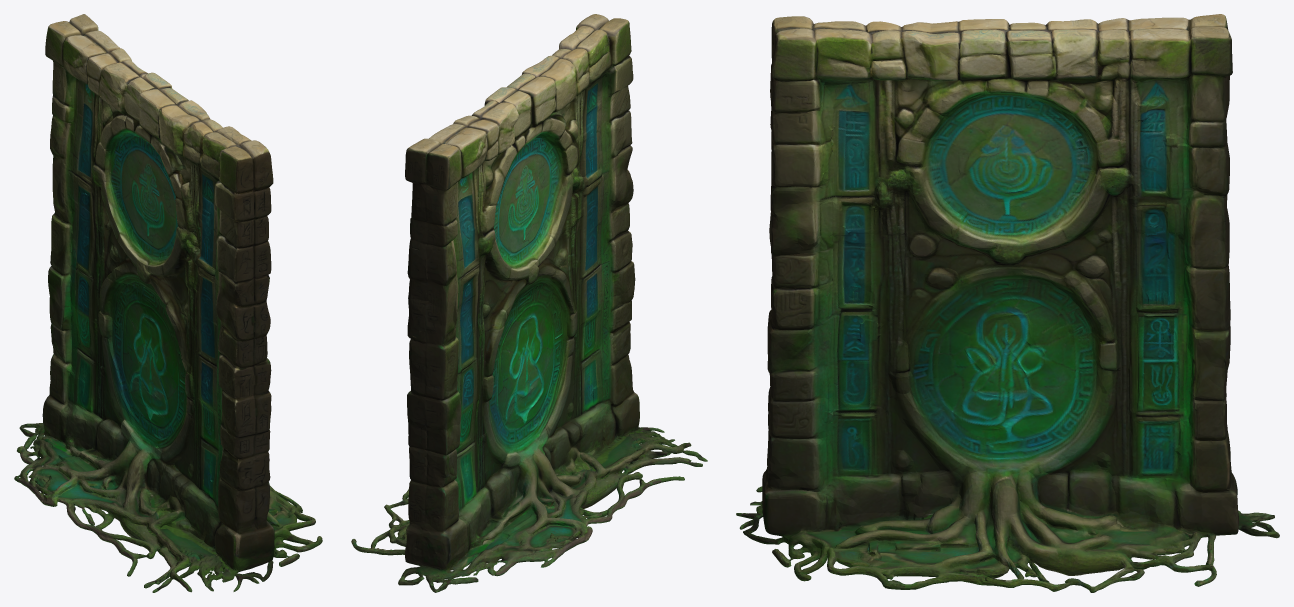
Rendered from Highly_detailed_ancie_0613160848_texture.fbx.
The picture shows the model from 3 angles, left to right: view 1: azimuth 30°, elevation 25°; view 2: azimuth 150°, elevation 25°; view 3: azimuth 270°, elevation 25°; orthographic projection. The views are drawn at different scales.
Visible parts, largest first — view 1: temp; view 2: temp; view 3: temp.
Boxes of the visible parts, <box> form: temp: <box>14,14,322,592</box>; temp: <box>351,14,707,592</box>; temp: <box>736,14,1279,592</box>.
Bounding box in the file's own units: 96.93 × 200 × 189.
Materials: 1 (1 with a texture image).
